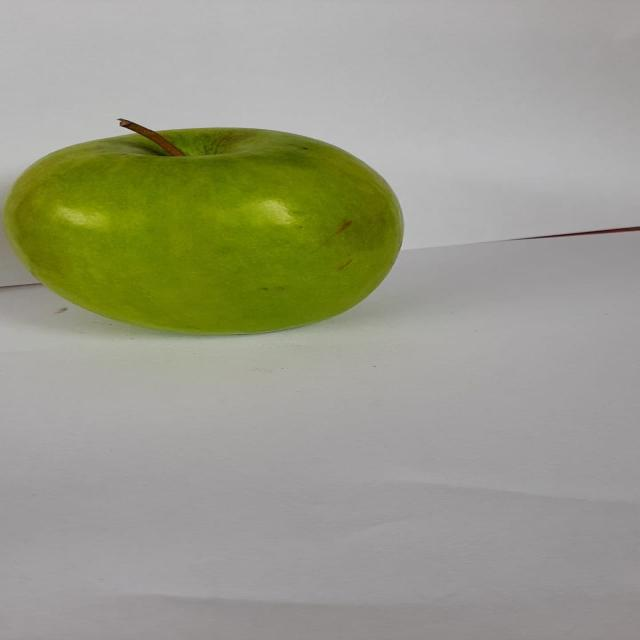50-_ripeness: (16, 114, 414, 339)
